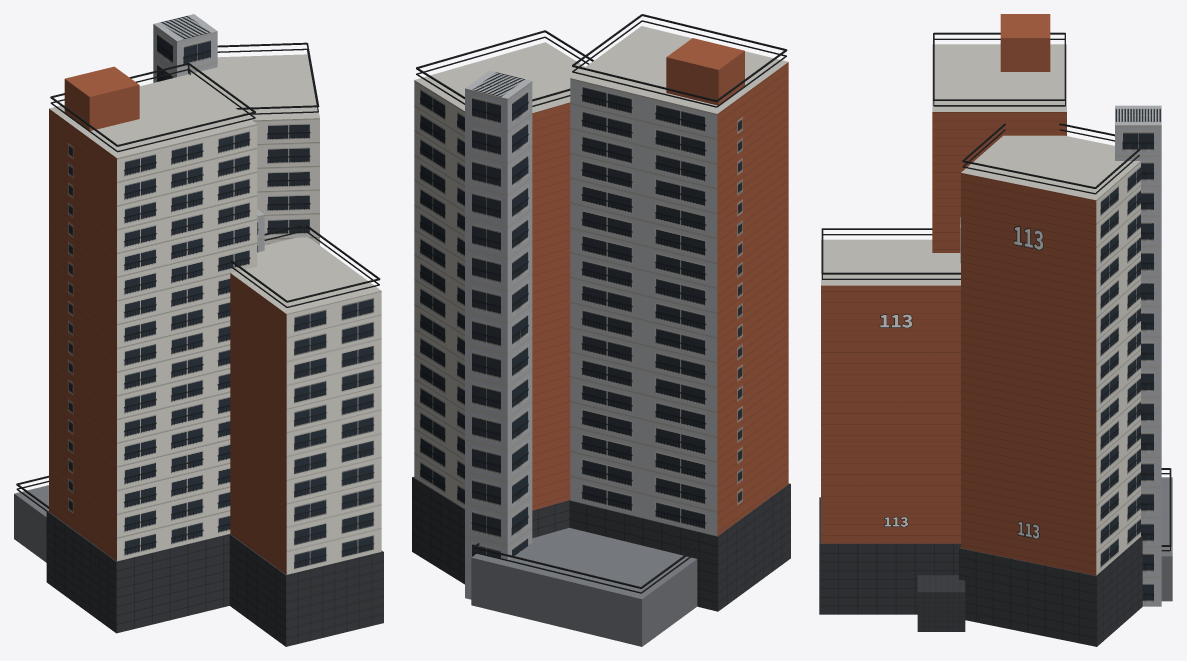
Rendered from place_113.glb.
The picture shows the model from 3 angles, left to right: view 1: azimuth 30°, elevation 25°; view 2: azimuth 150°, elevation 25°; view 3: azimuth 270°, elevation 25°; orthographic projection. The views are drawn at different scales.
Visible parts, largest first — view 1: KumhoParkHills_113; view 2: KumhoParkHills_113; view 3: KumhoParkHills_113.
Part boxes in pixels (bbox=[...]): KumhoParkHills_113: bbox=[14, 14, 383, 646]; KumhoParkHills_113: bbox=[412, 14, 790, 646]; KumhoParkHills_113: bbox=[819, 14, 1172, 646].
Bounding box in the file's own units: 30.65 × 53.6 × 34.1.
Materials: 21 (13 with a texture image).
